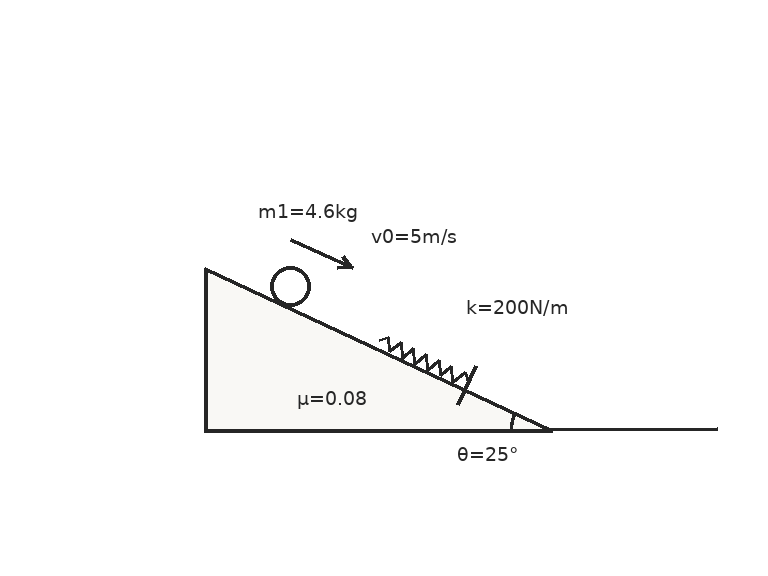ball: (268, 264, 312, 308)
ramp: (203, 267, 553, 432)
spring: (376, 334, 470, 384)
